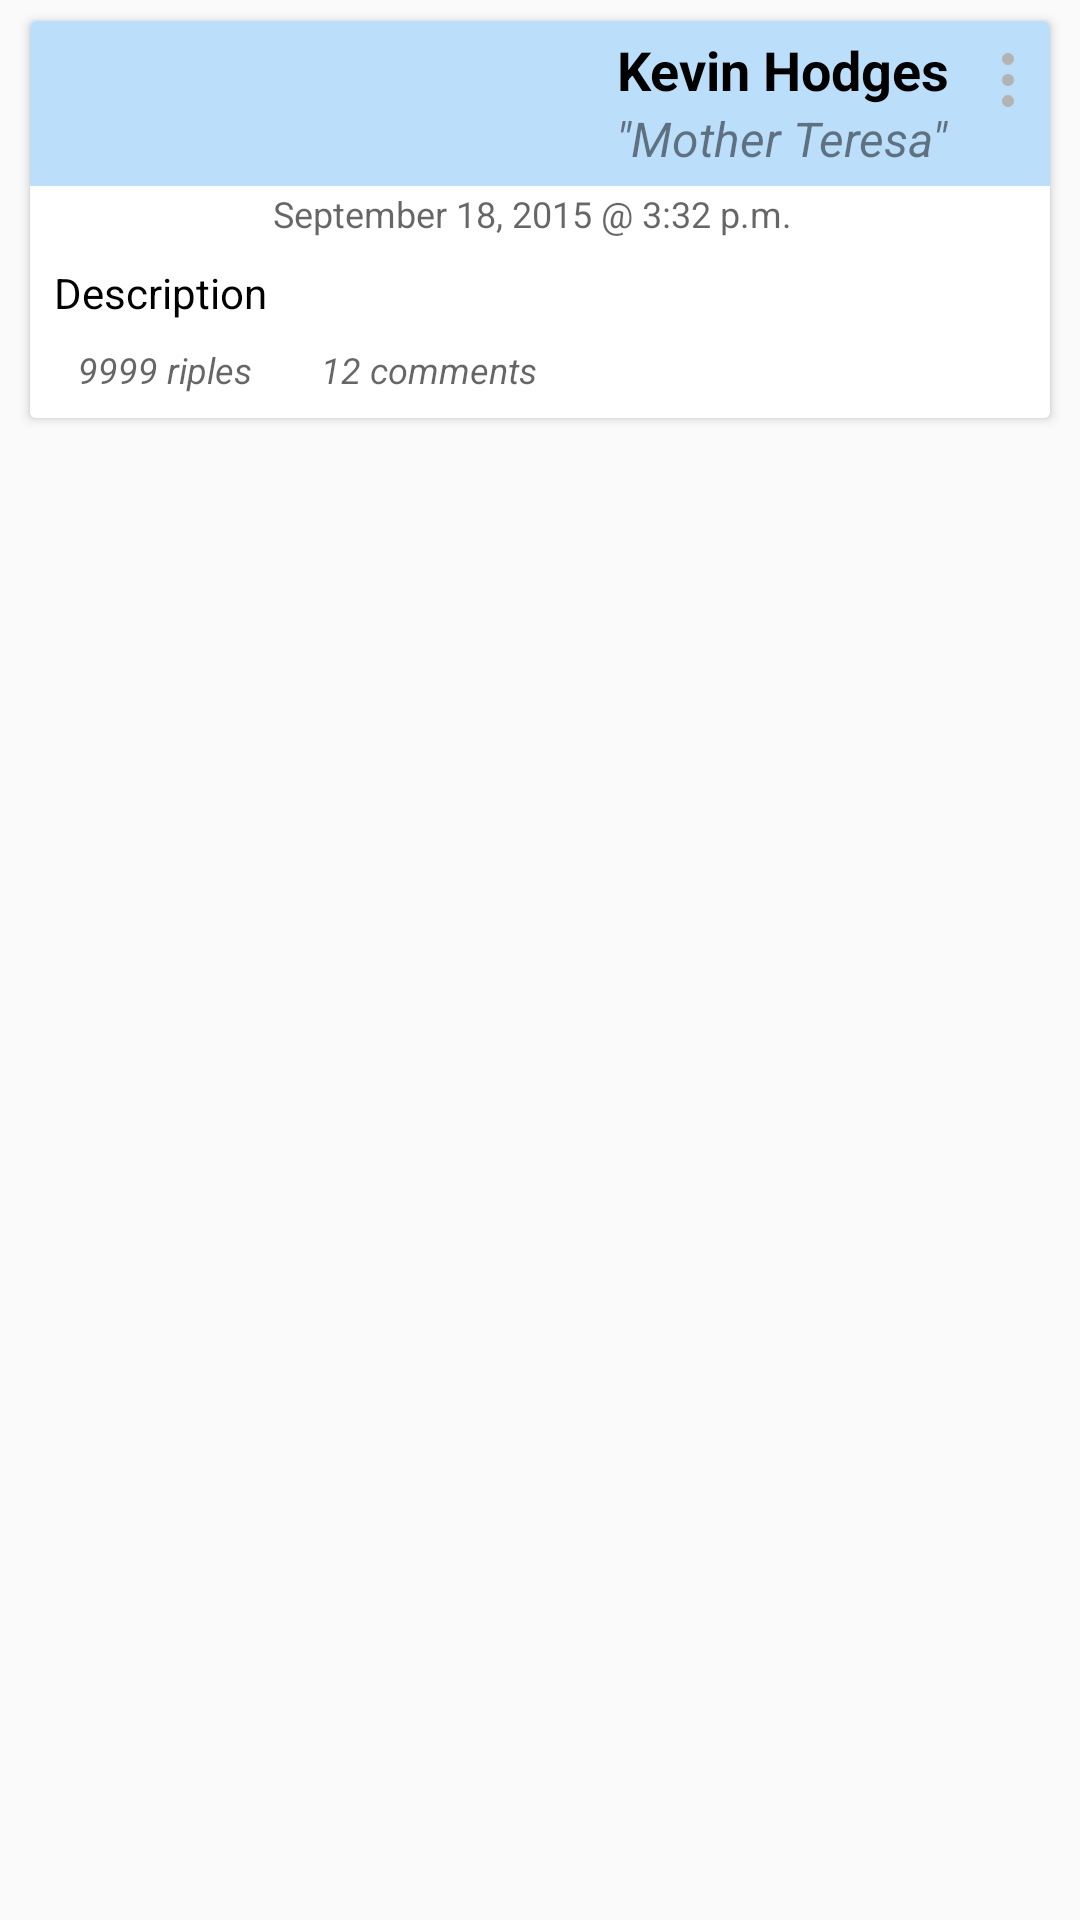

Named icons in this screenshot (1080*1920) and their bounding boxes, (x1, y1, x2, y2):
menu: (1002, 53, 1014, 107)
